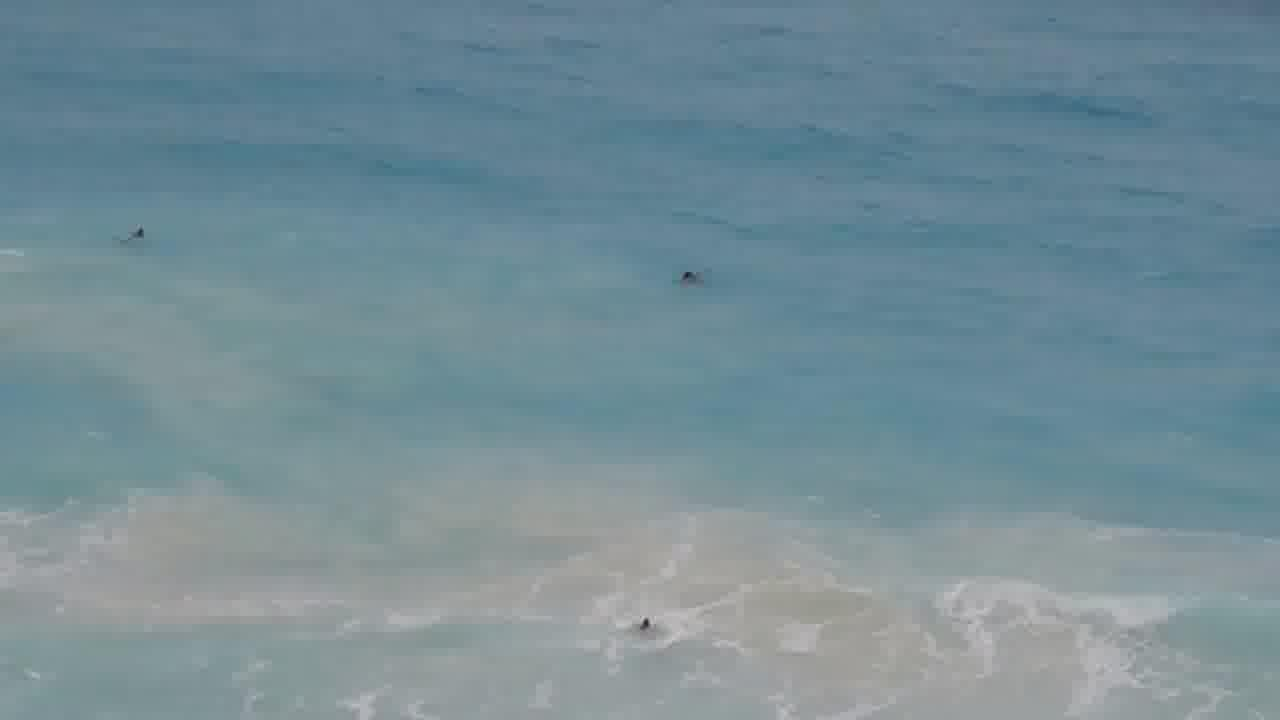human: (614, 598, 670, 642), (662, 252, 714, 296), (120, 213, 163, 257)
